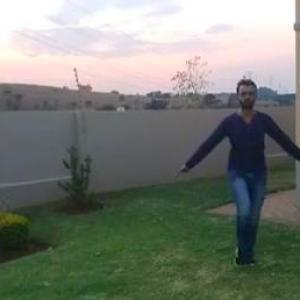land: (180, 85, 299, 236)
